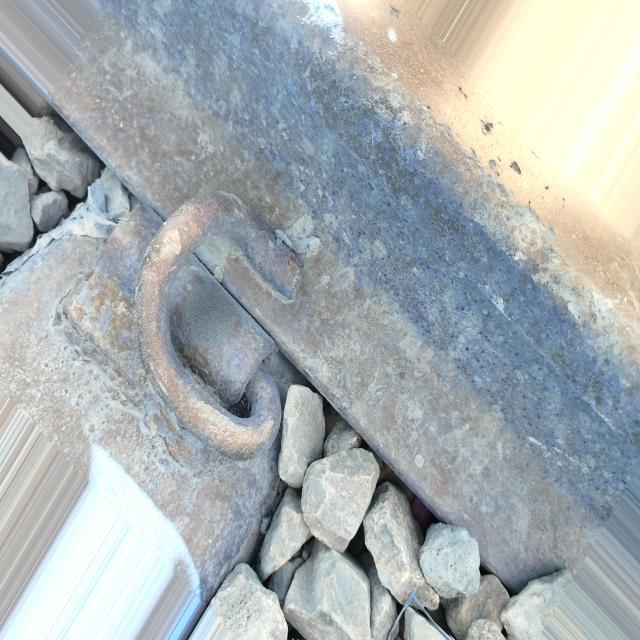Good Fasteners: (57, 138, 366, 495)
